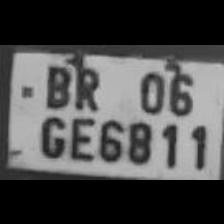0: (132, 64, 166, 112)
1: (155, 116, 183, 168), (182, 117, 210, 169)
6: (164, 64, 196, 114), (94, 114, 124, 162)
8: (124, 116, 153, 164)
B: (40, 57, 70, 106)
E: (66, 111, 94, 160)
G: (34, 110, 66, 158)
R: (70, 58, 102, 110)
